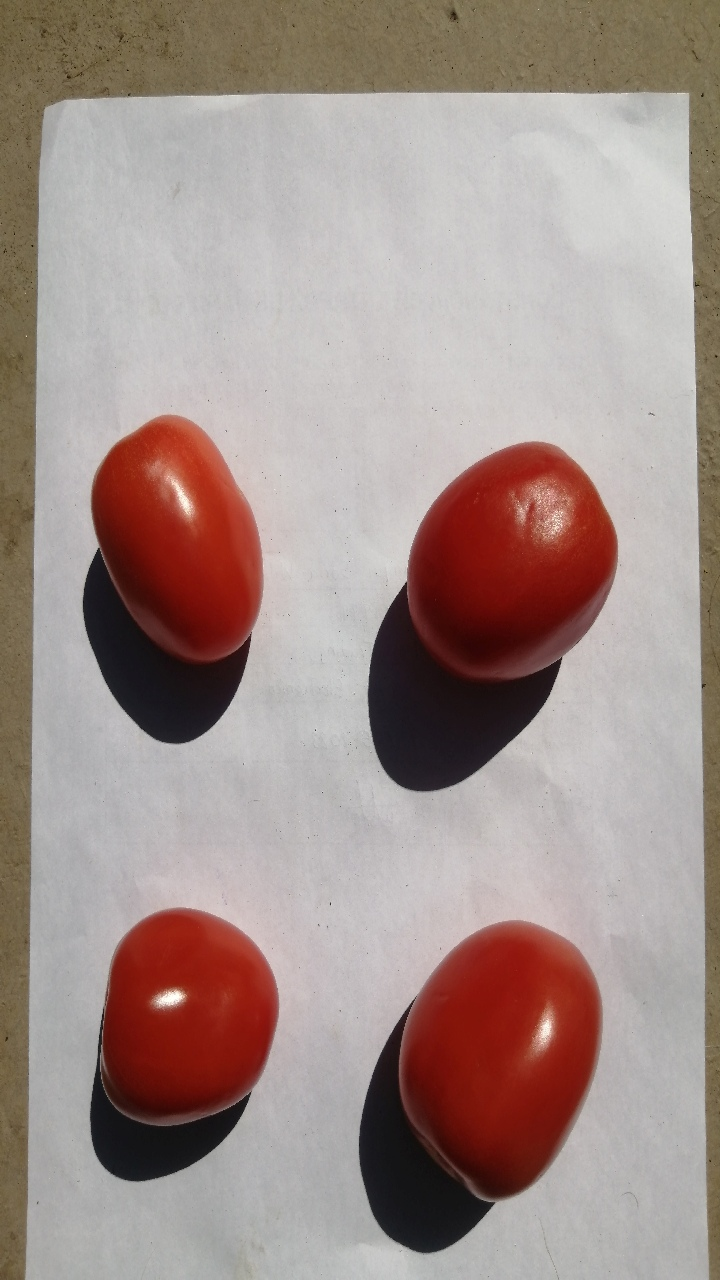tomateRojo: (361, 899, 617, 1220), (391, 412, 632, 714), (72, 408, 280, 691), (66, 885, 288, 1135)
